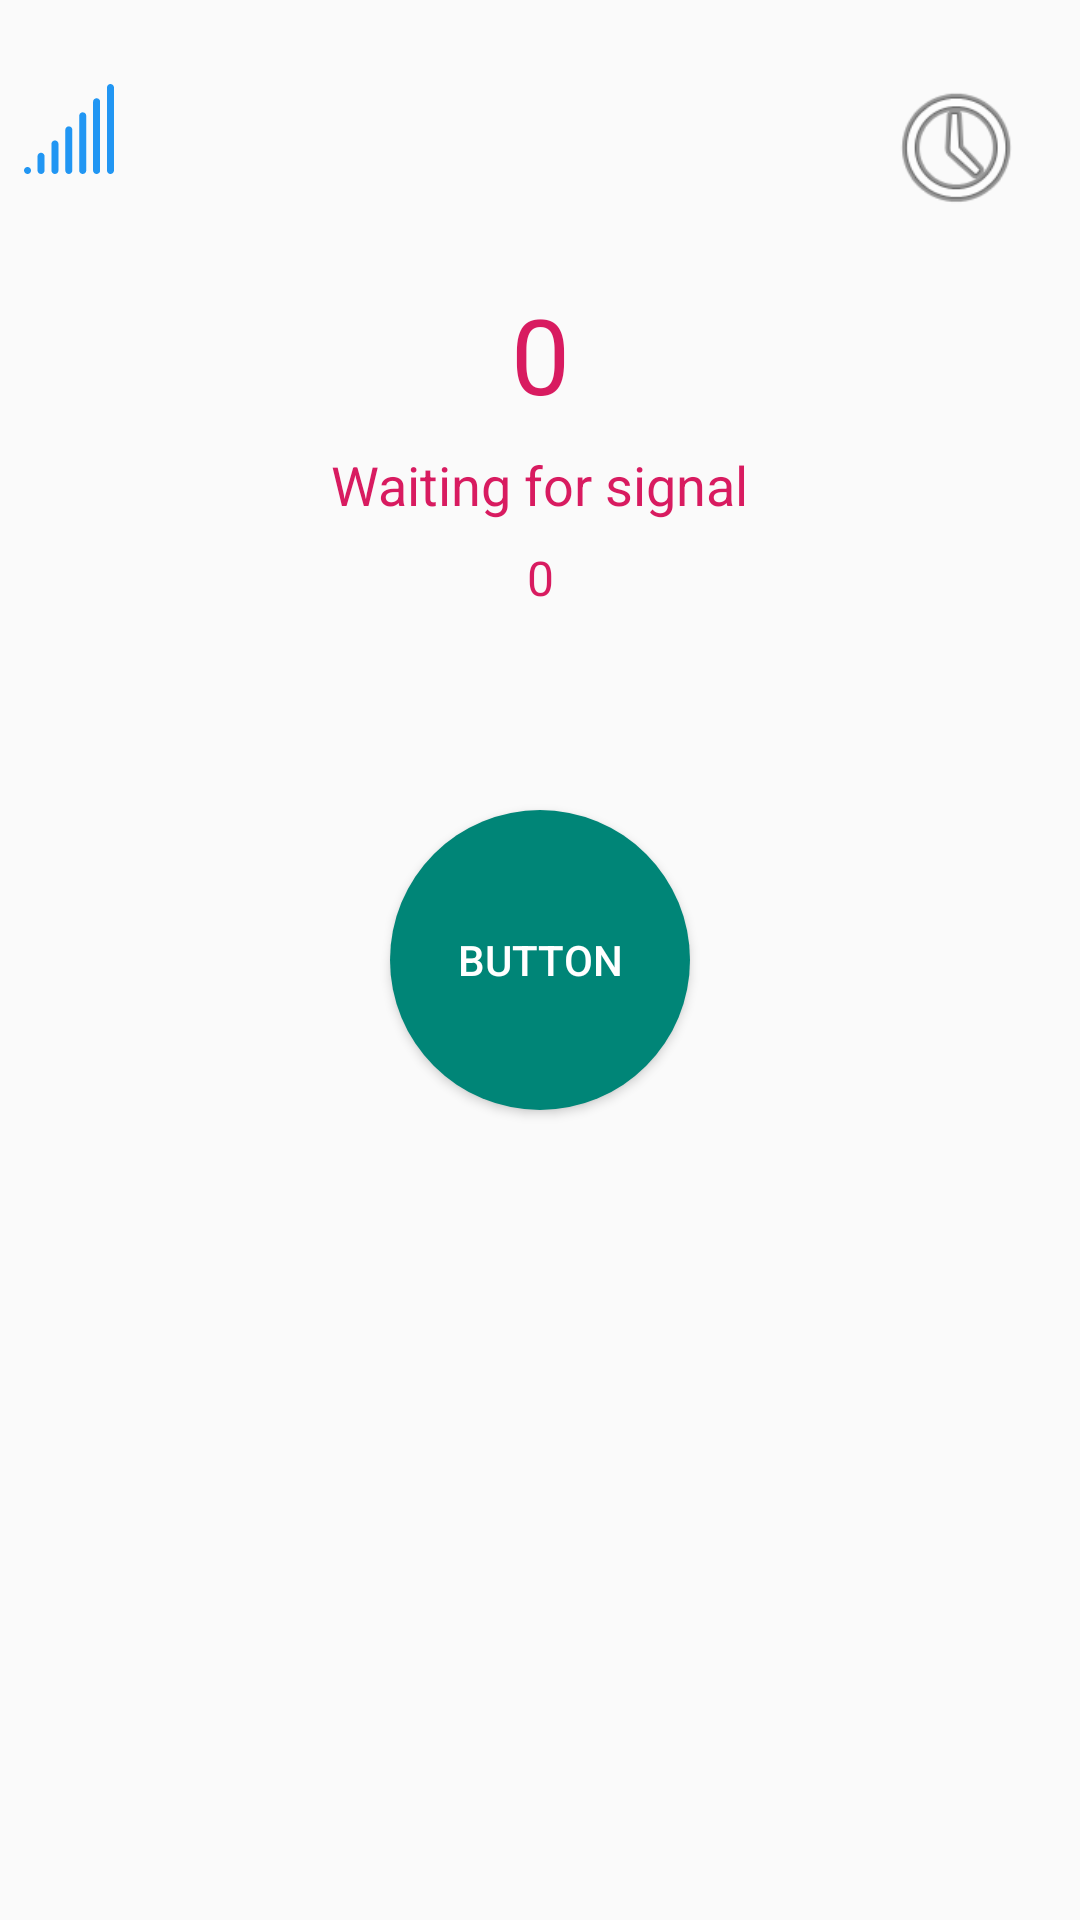

Screen size 1080×1920. Icon name, then its box in pixels as (x1, y1, x2, y2):
high signal: (24, 84, 114, 174)
recent history: (902, 93, 1011, 202)
